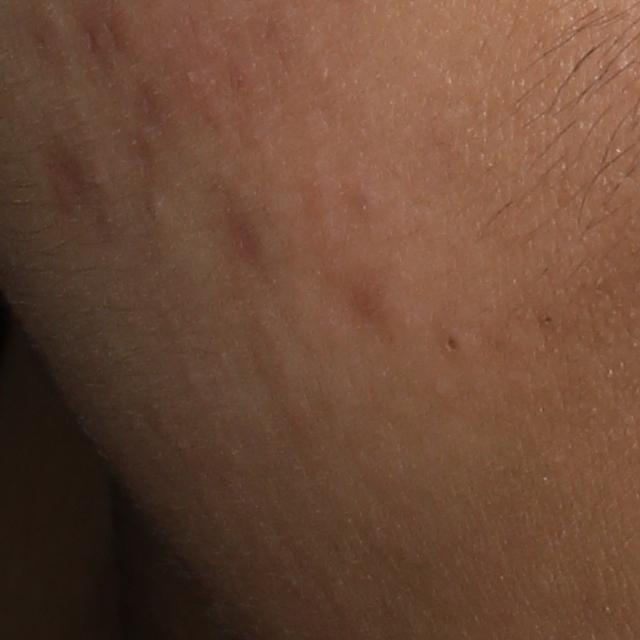comedo: (435, 325, 475, 358), (139, 190, 170, 227), (536, 308, 560, 330)
